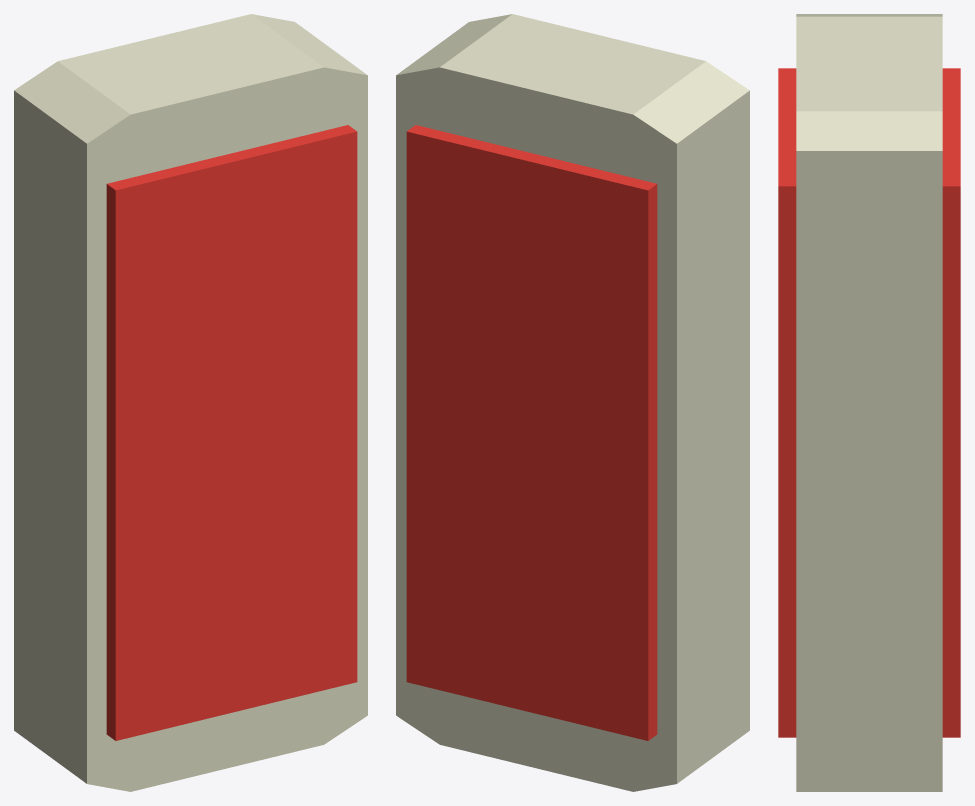
3 views of the same model, side by side, from view 1: azimuth 30°, elevation 25°; view 2: azimuth 150°, elevation 25°; view 3: azimuth 270°, elevation 25° (orthographic).
Parts seen in each view (by area): view 1: Cube; view 2: Cube; view 3: Cube.
Part boxes in pixels (<box>): Cube: <box>14,14,367,791</box>; Cube: <box>396,14,749,791</box>; Cube: <box>778,14,960,791</box>.
Size of the model in its own units: 26.98 by 62.19 by 15.16.
